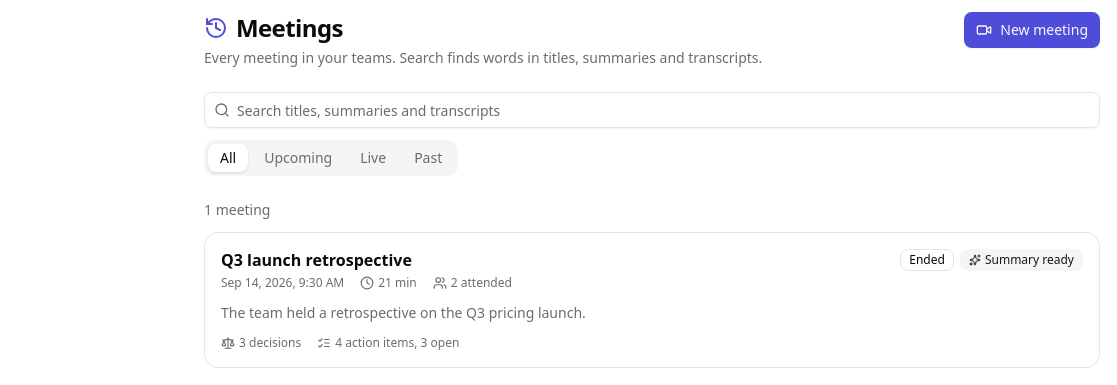
Test: <MeetingsPage /> › filters by status, and says so when a filter is empty
This screenshot has width=1117, height=385.
Expected: the text "1 meeting" is shown, [204,200,270,219]
Step 1. Click the button "Upcoming" → (298, 158), box [252,144,344,172]
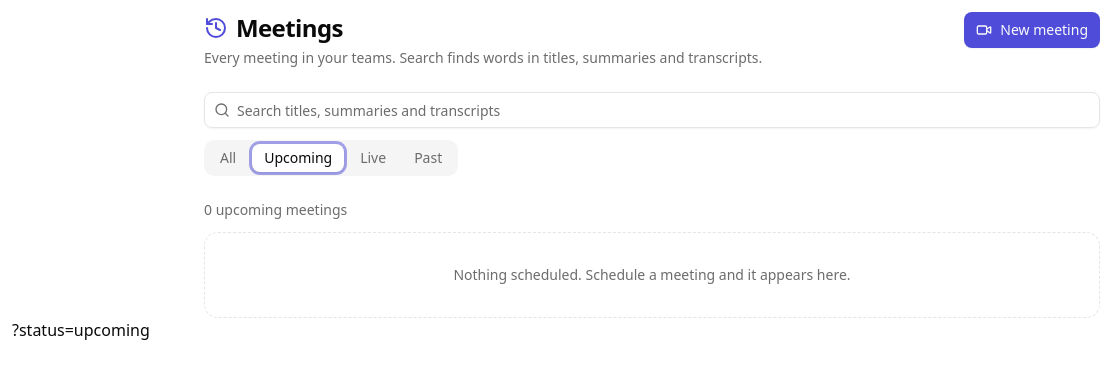
Now the text "Nothing scheduled. Schedule a meeting and it appears here." is shown, box [204,232,1100,318]
Now the text named "URL" reads "?status=upcoming", box [12,319,150,341]
